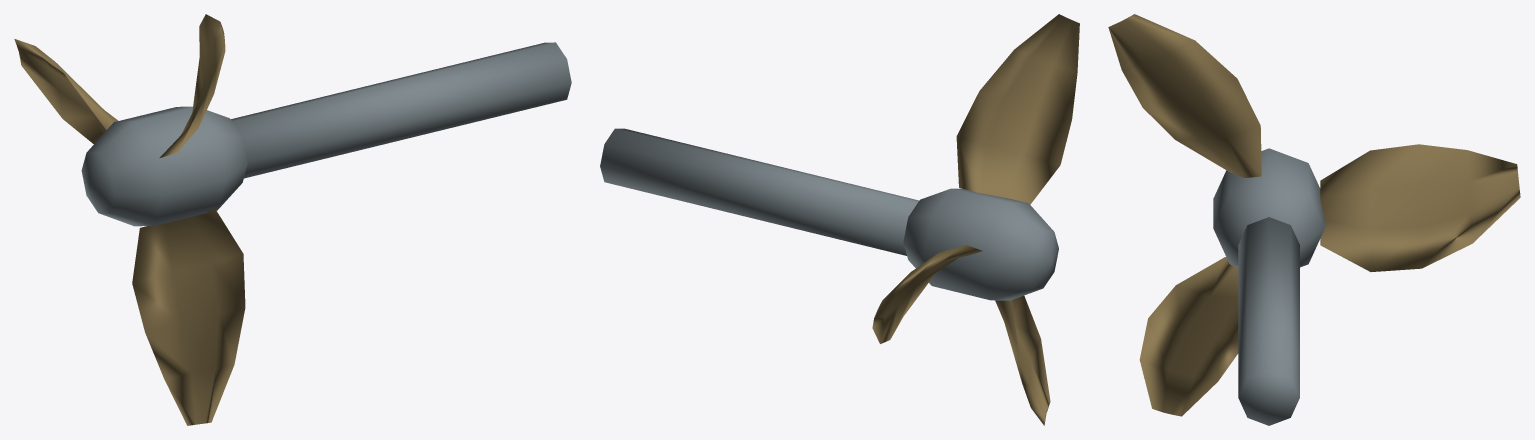
The model's file is PROP_T02_IMPROVED_LOD3.fbx.
The picture shows the model from 3 angles, left to right: view 1: azimuth 30°, elevation 25°; view 2: azimuth 150°, elevation 25°; view 3: azimuth 270°, elevation 25°; orthographic projection. The views are drawn at different scales.
Visible parts, largest first — view 1: PROP_T02_IMPROVED_LOD3_Shaft.001, PROP_T02_IMPROVED_LOD3_Blade_02.001, PROP_T02_IMPROVED_LOD3_Hub.001, PROP_T02_IMPROVED_LOD3_Blade_00.001, PROP_T02_IMPROVED_LOD3_Blade_01.001; view 2: PROP_T02_IMPROVED_LOD3_Shaft.001, PROP_T02_IMPROVED_LOD3_Blade_01.001, PROP_T02_IMPROVED_LOD3_Hub.001, PROP_T02_IMPROVED_LOD3_Blade_02.001, PROP_T02_IMPROVED_LOD3_Blade_00.001; view 3: PROP_T02_IMPROVED_LOD3_Blade_00.001, PROP_T02_IMPROVED_LOD3_Blade_01.001, PROP_T02_IMPROVED_LOD3_Shaft.001, PROP_T02_IMPROVED_LOD3_Blade_02.001, PROP_T02_IMPROVED_LOD3_Hub.001.
Part boxes in pixels (x1,y1,x2,y2): PROP_T02_IMPROVED_LOD3_Shaft.001: (231, 42, 571, 178); PROP_T02_IMPROVED_LOD3_Blade_02.001: (132, 208, 245, 425); PROP_T02_IMPROVED_LOD3_Hub.001: (81, 106, 247, 226); PROP_T02_IMPROVED_LOD3_Blade_00.001: (14, 39, 118, 143); PROP_T02_IMPROVED_LOD3_Blade_01.001: (159, 14, 225, 158); PROP_T02_IMPROVED_LOD3_Shaft.001: (600, 128, 918, 255); PROP_T02_IMPROVED_LOD3_Blade_01.001: (956, 14, 1079, 204); PROP_T02_IMPROVED_LOD3_Hub.001: (903, 188, 1058, 300); PROP_T02_IMPROVED_LOD3_Blade_02.001: (995, 295, 1050, 425); PROP_T02_IMPROVED_LOD3_Blade_00.001: (872, 244, 982, 343); PROP_T02_IMPROVED_LOD3_Blade_00.001: (1320, 144, 1520, 271); PROP_T02_IMPROVED_LOD3_Blade_01.001: (1108, 14, 1261, 177); PROP_T02_IMPROVED_LOD3_Shaft.001: (1238, 217, 1299, 425); PROP_T02_IMPROVED_LOD3_Blade_02.001: (1139, 257, 1238, 416); PROP_T02_IMPROVED_LOD3_Hub.001: (1213, 148, 1324, 267).
Size of the model in its own units: 374 by 295 by 322.
